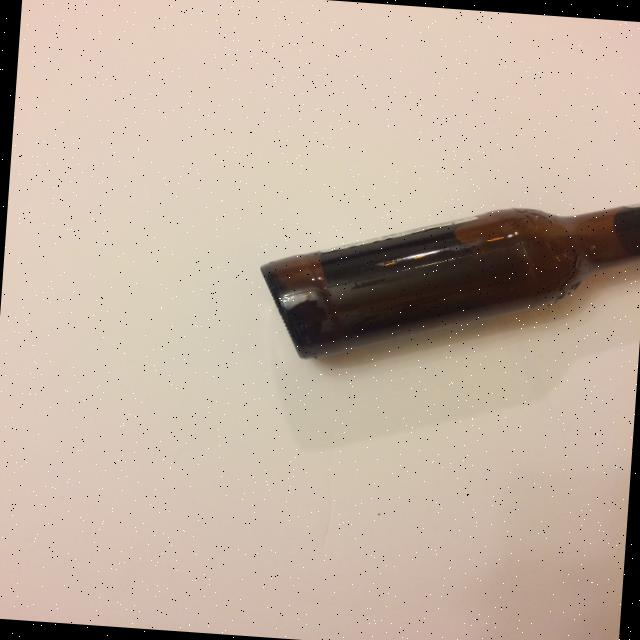glass: (252, 174, 640, 383)
